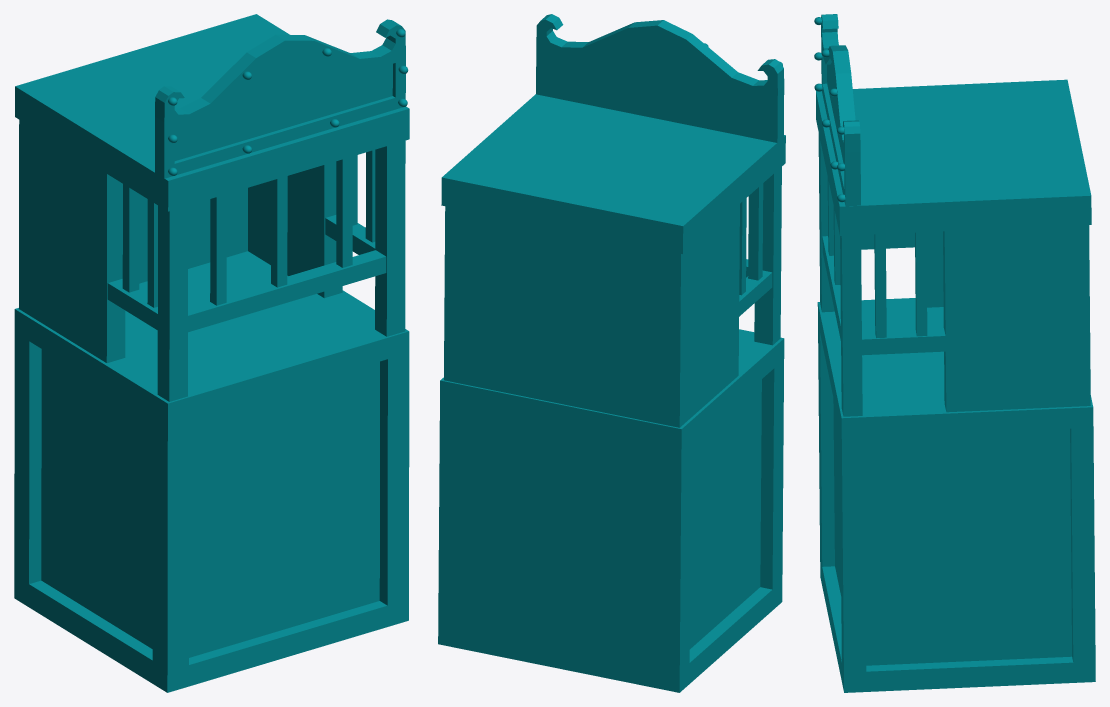
File: stand_position..fbx
3 renders of one model, left to right at view 1: azimuth 30°, elevation 25°; view 2: azimuth 150°, elevation 25°; view 3: azimuth 270°, elevation 25°, orthographic. The views are drawn at different scales.
Parts seen in each view (by area): view 1: polySurface26; view 2: polySurface26; view 3: polySurface26.
Part boxes in pixels (x1,y1,x2,y2): polySurface26: [14, 14, 409, 692]; polySurface26: [438, 14, 785, 692]; polySurface26: [814, 14, 1095, 692].
Size of the model in its own units: 360 by 771 by 338.
